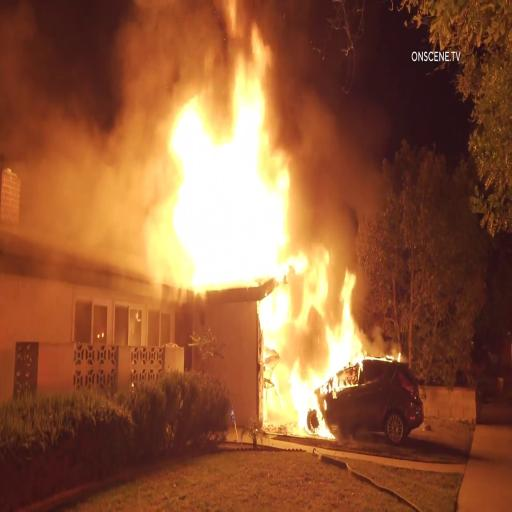fire: (172, 0, 290, 293), (259, 190, 348, 419)
smoke: (4, 4, 169, 242), (0, 0, 216, 56), (285, 0, 369, 59)
